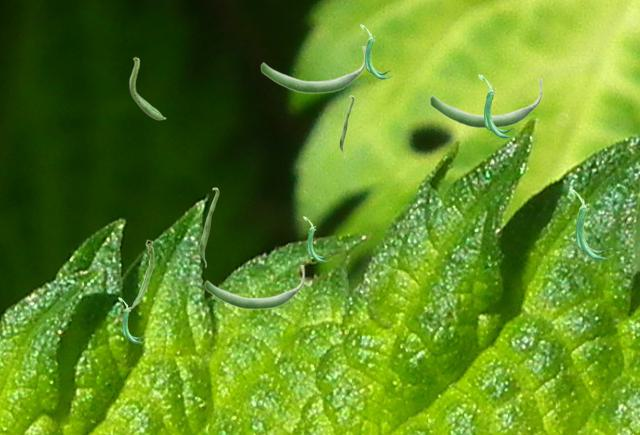french_bean: (429, 78, 542, 128), (260, 46, 365, 93), (204, 265, 304, 309), (569, 188, 612, 259), (478, 74, 516, 137), (129, 56, 165, 119), (124, 239, 153, 310), (360, 24, 392, 78), (199, 187, 218, 267), (118, 297, 145, 342), (303, 216, 330, 261), (339, 95, 353, 158)
